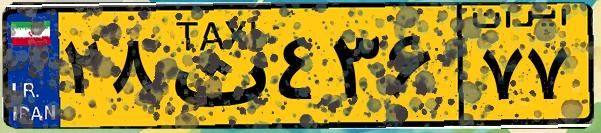2: (57, 26, 110, 100)
3: (330, 28, 385, 110)
4: (270, 28, 330, 110)
6: (385, 28, 445, 110)
7: (475, 38, 525, 113), (525, 38, 570, 115)
8: (110, 28, 158, 98)
ت: (158, 12, 270, 120)
